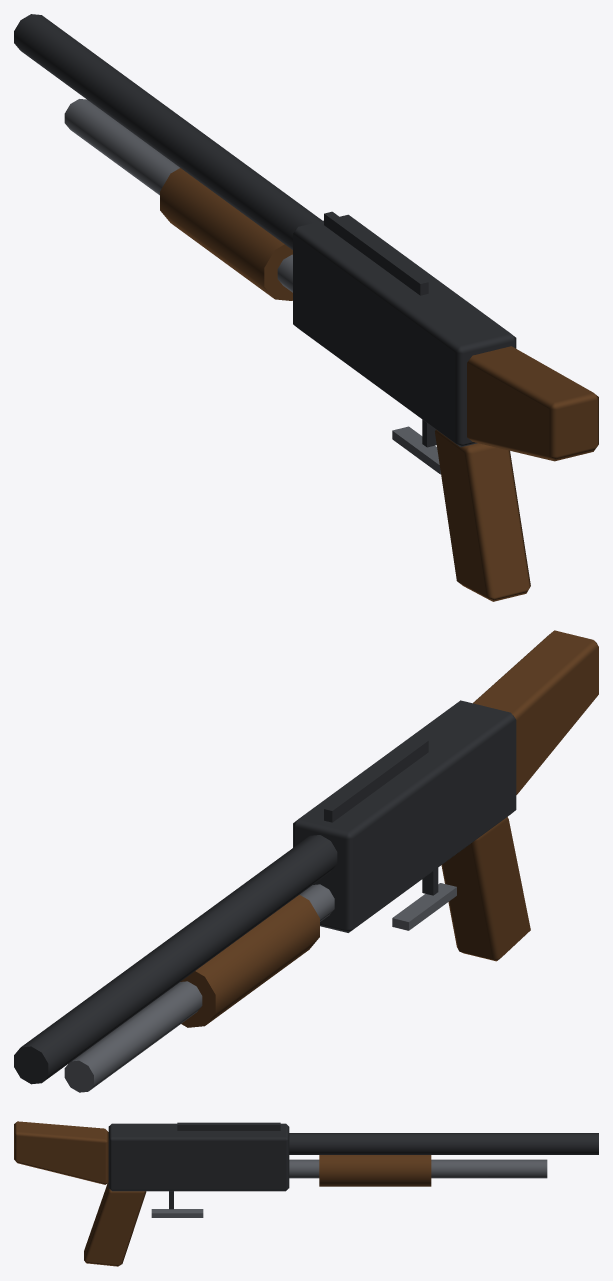
Rendered from scattergun.glb.
3 renders of one model, top to bottom at view 1: azimuth 30°, elevation 25°; view 2: azimuth 150°, elevation 25°; view 3: azimuth 270°, elevation 25°, orthographic. The views are drawn at different scales.
Parts seen in each view (by area): view 1: Scattergun; view 2: Scattergun; view 3: Scattergun.
Boxes of the visible parts, x1,y1,x2,y2 form: Scattergun: (14,14,598,601); Scattergun: (14,630,598,1092); Scattergun: (14,1121,598,1266).
Size of the model in its own units: 0.044 by 0.1776 by 0.68.
